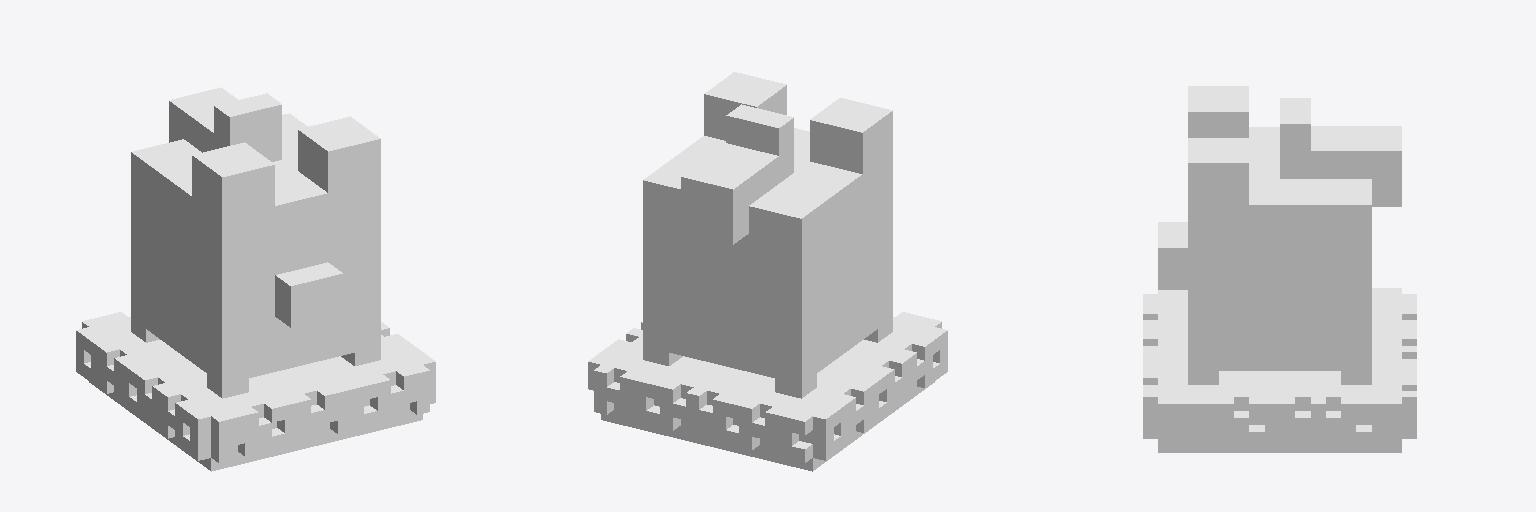
Rendered from FatFox.obj.
3 renders of one model, left to right at view 1: azimuth 30°, elevation 25°; view 2: azimuth 150°, elevation 25°; view 3: azimuth 270°, elevation 25°, orthographic.
Parts seen in each view (by area): view 1: object 1; view 2: object 1; view 3: object 1.
Part boxes in pixels (left/top/right/bottom): object 1: left=76, top=87, right=435, bottom=471; object 1: left=588, top=72, right=947, bottom=471; object 1: left=1143, top=86, right=1416, bottom=452.
Size of the model in its own units: 1.8 by 2.1 by 1.8.